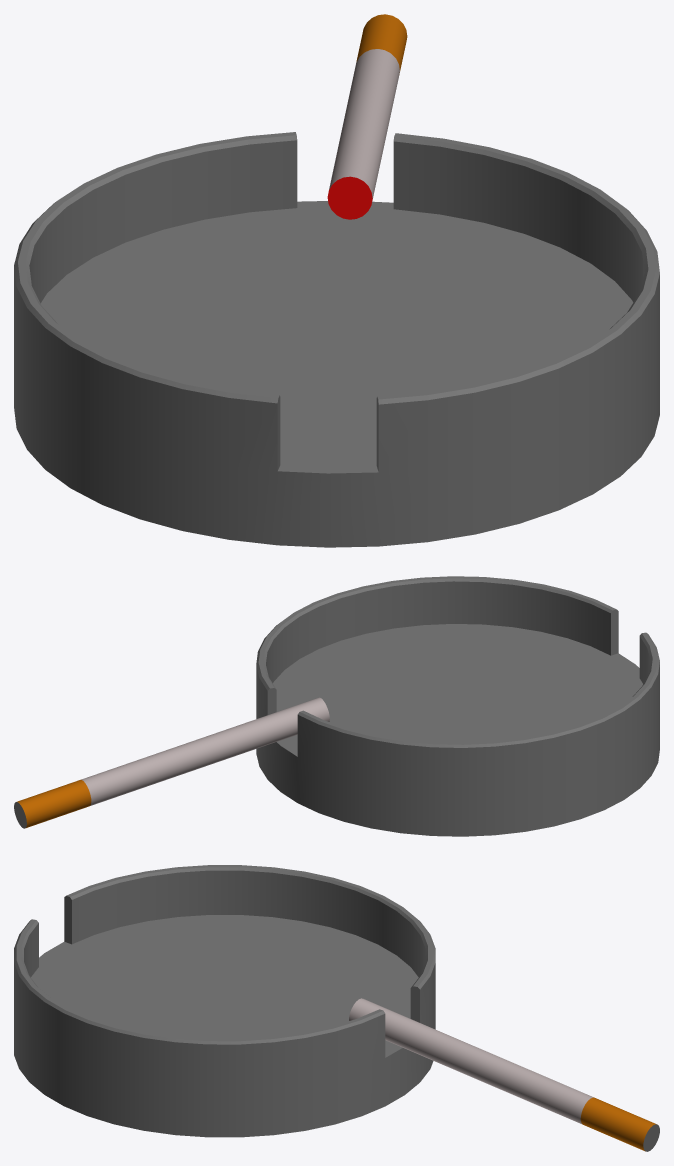
File: Cigaret.fbx
3 views of the same model, one above another, from view 1: azimuth 30°, elevation 25°; view 2: azimuth 150°, elevation 25°; view 3: azimuth 270°, elevation 25° (orthographic). The views are drawn at different scales.
Visible parts, largest first — view 1: polySurface478, polySurface479; view 2: polySurface478, polySurface479; view 3: polySurface478, polySurface479.
Boxes of the visible parts, x1,y1,x2,y2 form: polySurface478: [14, 132, 659, 547]; polySurface479: [327, 14, 407, 219]; polySurface478: [256, 576, 659, 836]; polySurface479: [14, 697, 329, 828]; polySurface478: [14, 865, 435, 1137]; polySurface479: [349, 998, 659, 1151].
Size of the model in its own units: 32.99 by 6.85 by 42.14.
